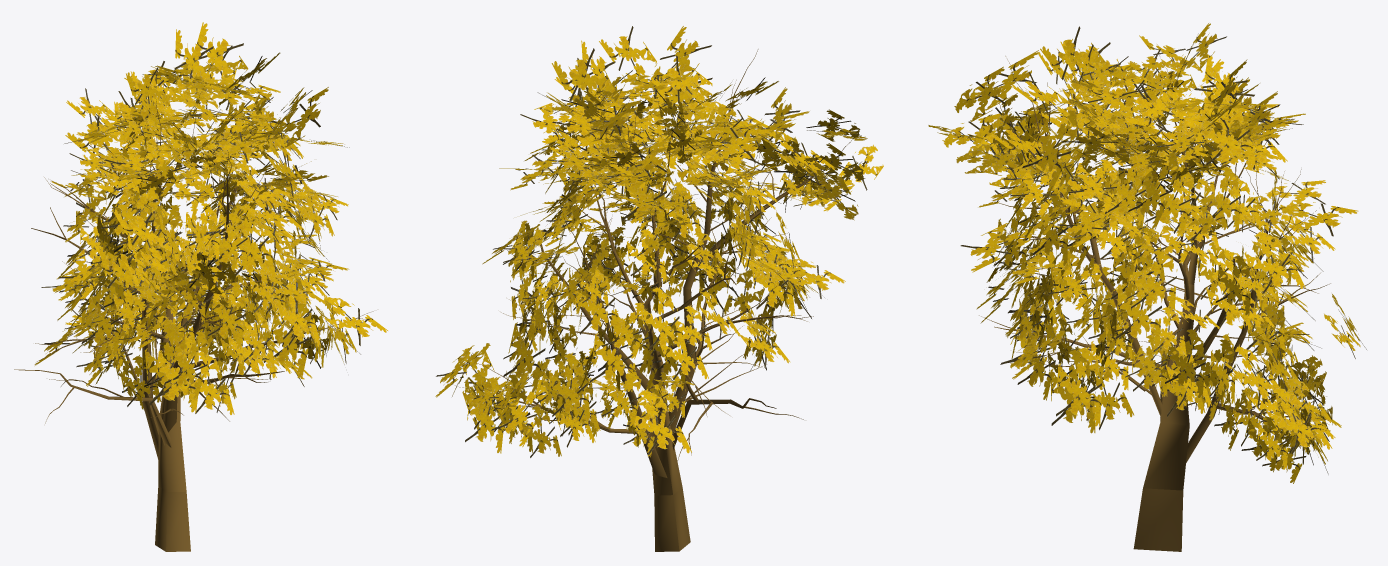
The model's file is guaya_modelo1.fbx.
The picture shows the model from 3 angles, left to right: view 1: azimuth 30°, elevation 25°; view 2: azimuth 150°, elevation 25°; view 3: azimuth 270°, elevation 25°; orthographic projection. The views are drawn at different scales.
Parts seen in each view (by area): view 1: tronco, polySurface670, polySurface765, polySurface638, polySurface614, polySurface762, polySurface737, polySurface617, polySurface694, polySurface616, polySurface750, polySurface707 (+41 smaller); view 2: tronco, polySurface584, polySurface386, polySurface401, polySurface718, polySurface647, polySurface590, polySurface610, polySurface735, polySurface611, polySurface731, polySurface570 (+27 smaller); view 3: tronco, polySurface606, polySurface741, polySurface749, polySurface704, polySurface585, polySurface677, polySurface656, polySurface623, polySurface603, polySurface620, polySurface722 (+67 smaller).
Boxes of the visible parts, box(x1,y1,x2,y2) form: tronco: box(14, 86, 373, 551); polySurface670: box(226, 202, 275, 279); polySurface765: box(98, 246, 146, 321); polySurface638: box(264, 301, 311, 378); polySurface614: box(153, 336, 201, 412); polySurface762: box(112, 209, 176, 273); polySurface737: box(174, 29, 213, 106); polySurface617: box(164, 331, 209, 399); polySurface694: box(100, 186, 160, 252); polySurface616: box(186, 351, 234, 414); polySurface750: box(190, 22, 243, 99); polySurface707: box(104, 139, 171, 191); tronco: box(451, 49, 856, 551); polySurface584: box(503, 308, 547, 393); polySurface386: box(628, 389, 691, 455); polySurface401: box(549, 352, 590, 421); polySurface718: box(551, 48, 616, 117); polySurface647: box(574, 266, 620, 337); polySurface590: box(465, 377, 505, 453); polySurface610: box(639, 286, 687, 353); polySurface735: box(693, 127, 771, 162); polySurface611: box(590, 318, 635, 391); polySurface731: box(649, 55, 713, 114); polySurface570: box(491, 380, 548, 447); tronco: box(979, 55, 1330, 551); polySurface606: box(1056, 347, 1102, 426); polySurface741: box(1022, 110, 1078, 192); polySurface749: box(1125, 83, 1201, 132); polySurface704: box(1199, 99, 1256, 167); polySurface585: box(1266, 386, 1332, 454); polySurface677: box(1244, 230, 1305, 293); polySurface656: box(1131, 249, 1177, 311); polySurface623: box(1115, 269, 1162, 349); polySurface603: box(1050, 348, 1095, 433); polySurface620: box(1165, 329, 1206, 398); polySurface722: box(1128, 152, 1179, 229).
Size of the model in its own units: 1707 by 2434 by 1913.
2 materials, 1 textured.
